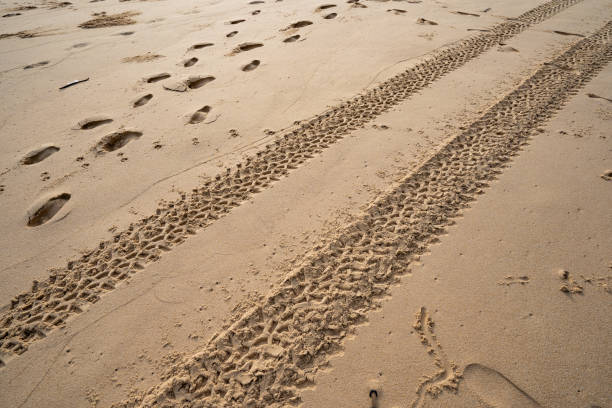human_foot_print: (410, 307, 540, 407), (410, 307, 460, 407), (462, 363, 540, 407), (27, 192, 70, 226), (96, 130, 142, 152), (163, 75, 214, 91), (20, 144, 59, 164), (76, 115, 112, 129), (187, 105, 211, 123), (121, 52, 163, 62), (230, 42, 263, 54), (281, 20, 312, 30), (132, 93, 152, 107), (144, 72, 170, 82), (552, 30, 584, 37), (241, 60, 259, 71), (587, 93, 611, 101), (23, 61, 49, 68), (182, 57, 199, 67), (315, 4, 336, 12), (189, 42, 213, 49), (497, 43, 518, 51), (417, 17, 437, 24), (283, 34, 300, 42), (453, 11, 479, 16), (387, 9, 406, 14), (227, 19, 245, 24), (323, 12, 336, 18), (226, 31, 237, 37), (248, 0, 264, 4), (250, 10, 260, 14)
vehicle_track: (0, 0, 580, 353), (115, 22, 611, 407)
